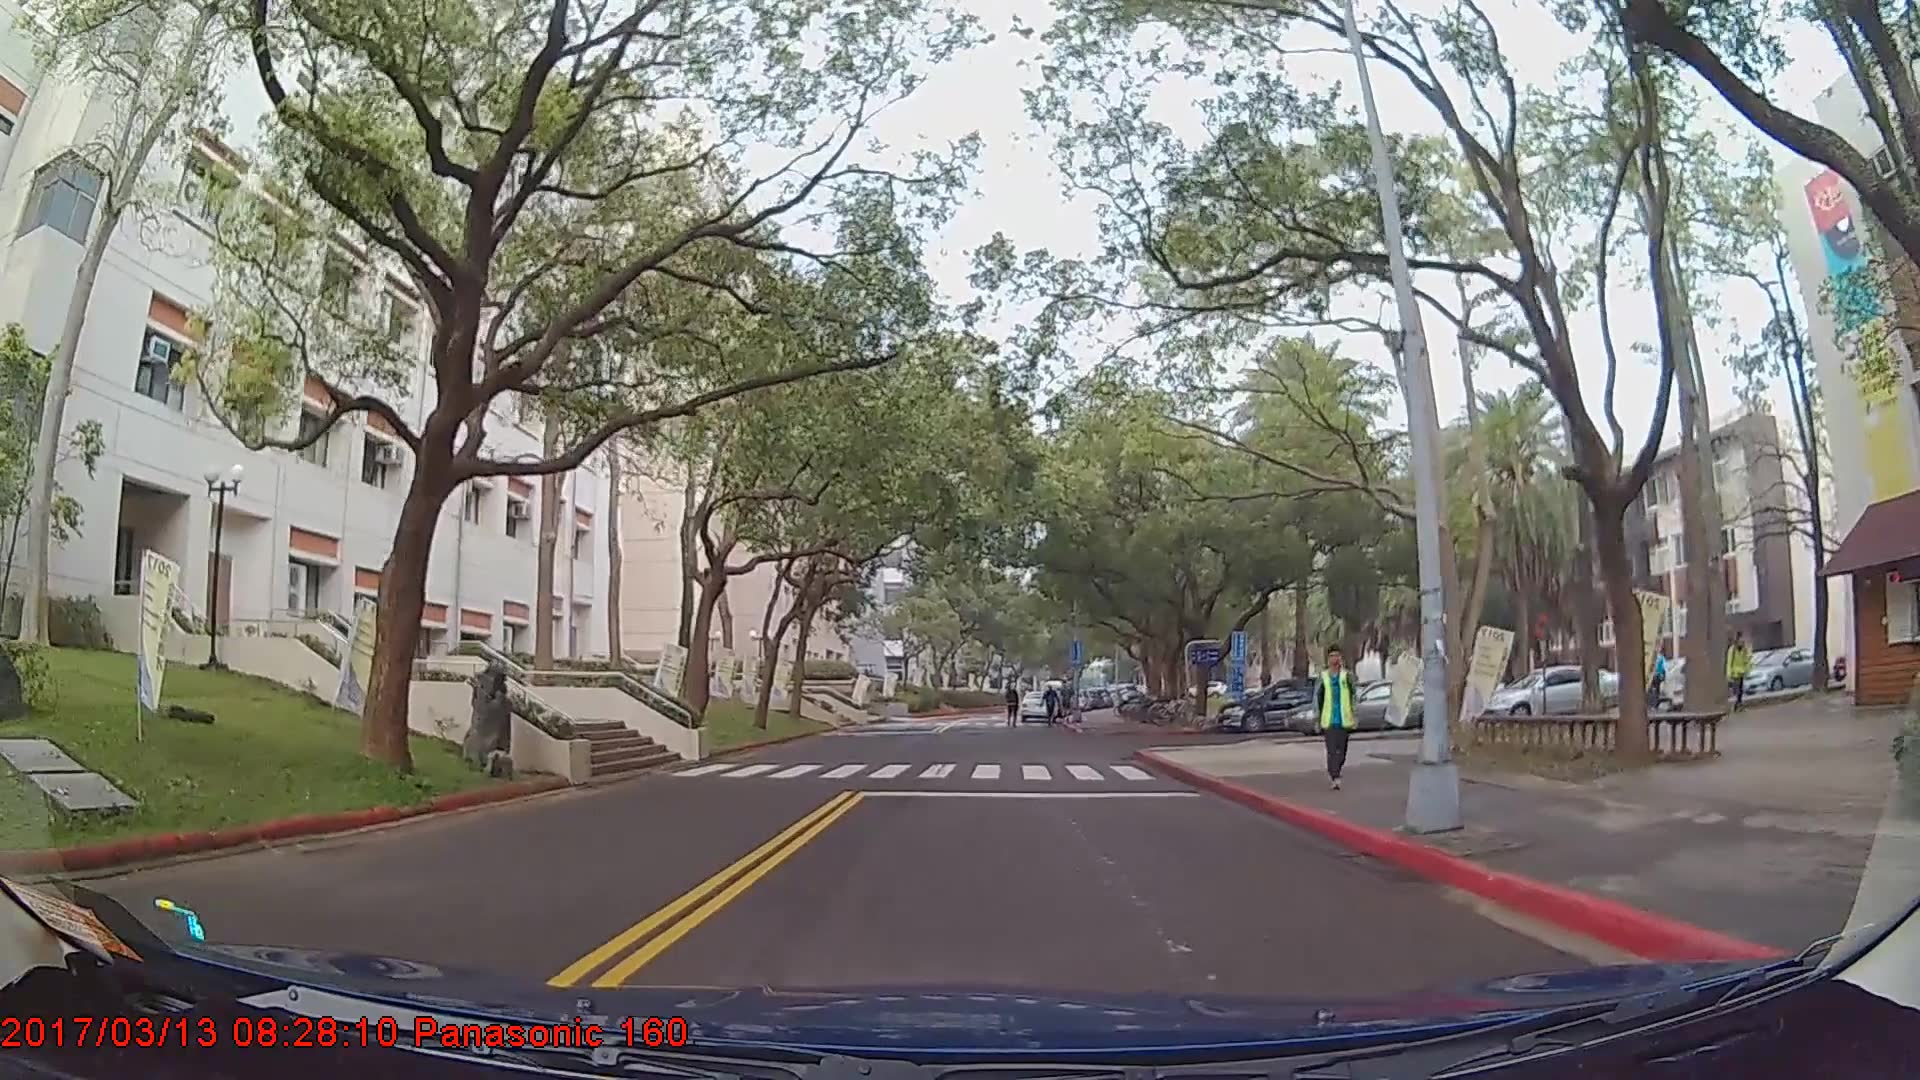pedestrian: (1314, 645, 1361, 790), (1645, 634, 1673, 720), (1728, 633, 1753, 715), (1042, 684, 1062, 729)
vehicle: (1292, 677, 1447, 734), (1479, 663, 1625, 724), (1220, 673, 1343, 730), (1738, 644, 1824, 696), (1020, 691, 1052, 722)
